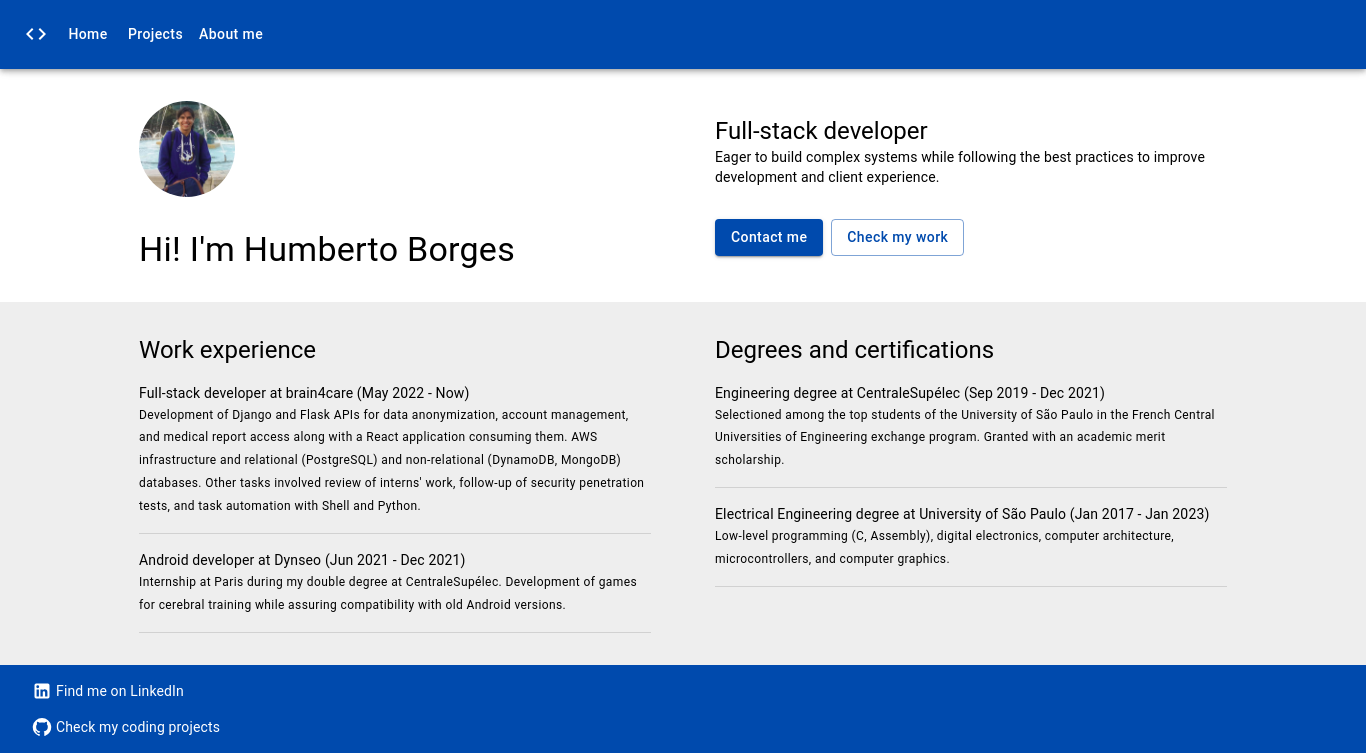
Scenario: should redirect to the about me page when clicking on the 'about me' menu item
Click the button with test id "web-menu-item-2": (231, 35) [191, 16, 271, 53]
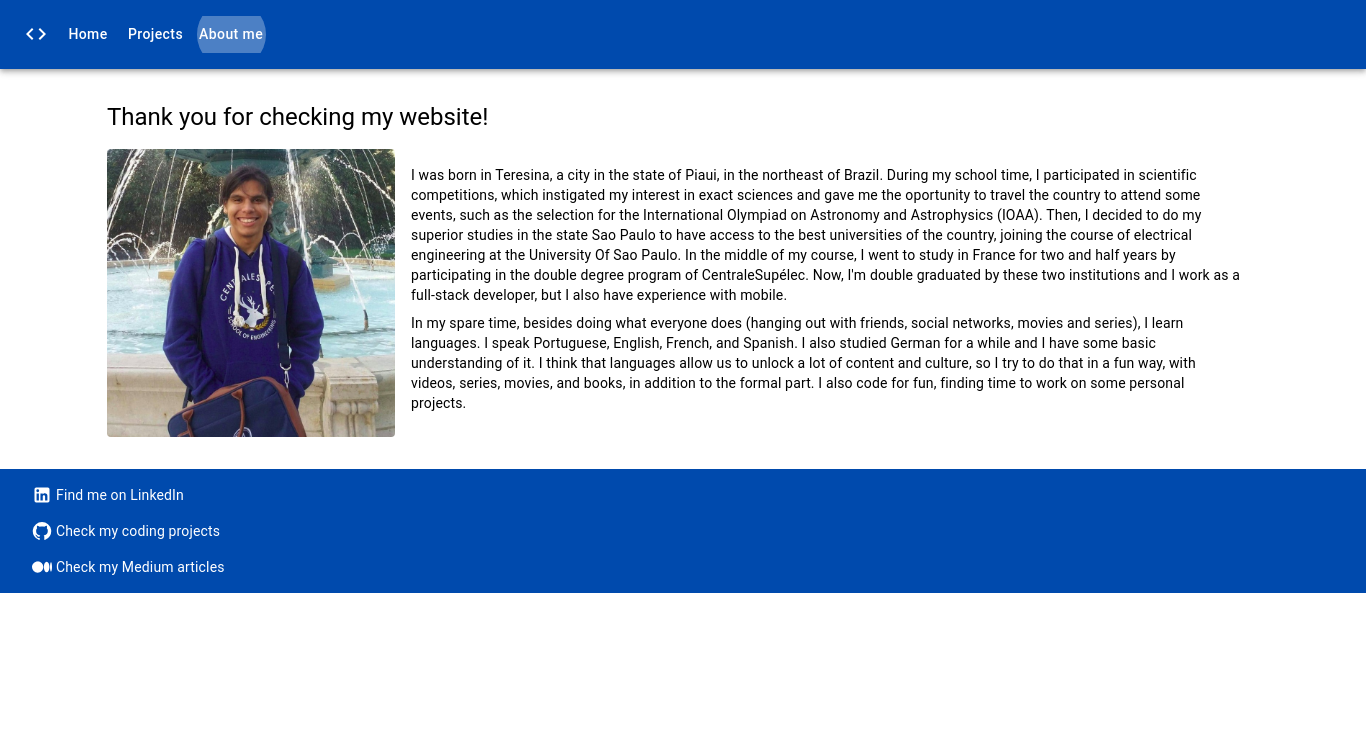
expect the heading with test id "about-me-title" reads "Thank you for checking my website!": met, box [107, 103, 489, 131]
